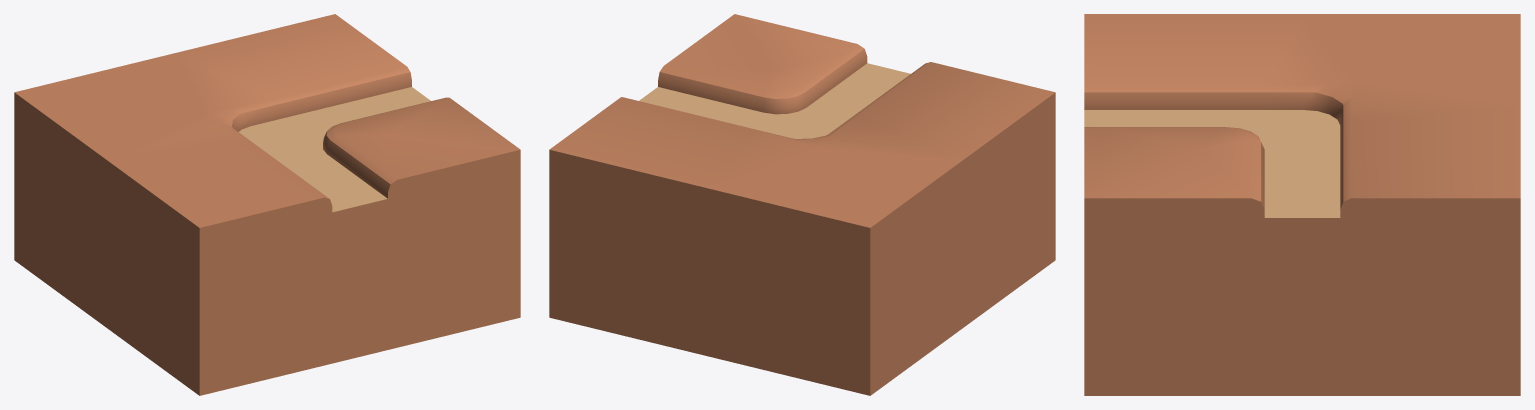
File: square_rock_roadC.glb
3 views of the same model, side by side, from view 1: azimuth 30°, elevation 25°; view 2: azimuth 150°, elevation 25°; view 3: azimuth 270°, elevation 25° (orthographic). The views are drawn at different scales.
Parts seen in each view (by area): view 1: square_rock_roadC; view 2: square_rock_roadC; view 3: square_rock_roadC.
Boxes of the visible parts, bbox=[...] form: square_rock_roadC: bbox=[14, 14, 520, 395]; square_rock_roadC: bbox=[549, 14, 1055, 395]; square_rock_roadC: bbox=[1084, 14, 1520, 395].
Bounding box in the file's own units: 2 × 1 × 2.
